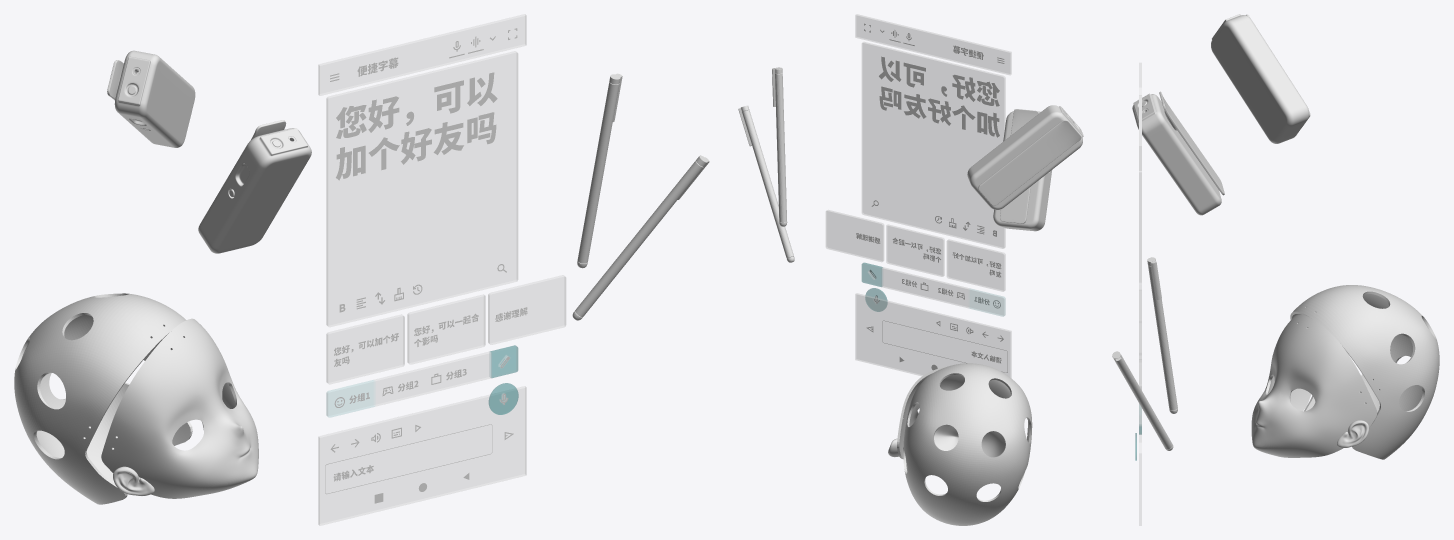
The model's file is bxzm-nE2oz__J.glb.
3 views of the same model, side by side, from view 1: azimuth 30°, elevation 25°; view 2: azimuth 150°, elevation 25°; view 3: azimuth 270°, elevation 25° (orthographic). The views are drawn at different scales.
Visible parts, largest first — view 1: Plane, 6e7dc343-f0f9-444a-b644-ced425d2c32c.36, 6e7dc343-f0f9-444a-b644-ced425d2c32c.001, Curve.004, Cube, Cube.001, Cylinder, Cylinder.001; view 2: Plane, 6e7dc343-f0f9-444a-b644-ced425d2c32c.36, Cube.001, Curve.004, 6e7dc343-f0f9-444a-b644-ced425d2c32c.001, Cube, Cylinder.001, Cylinder, Circle; view 3: 6e7dc343-f0f9-444a-b644-ced425d2c32c.36, 6e7dc343-f0f9-444a-b644-ced425d2c32c.001, Cube.001, Cube, Cylinder.001, Plane, Cylinder.
Part boxes in pixels (box(x1,y1,x2,y2)): Plane: box(318, 14, 565, 525); 6e7dc343-f0f9-444a-b644-ced425d2c32c.36: box(14, 293, 192, 504); 6e7dc343-f0f9-444a-b644-ced425d2c32c.001: box(101, 318, 258, 498); Curve.004: box(325, 28, 527, 503); Cube: box(198, 120, 311, 253); Cube.001: box(107, 50, 195, 147); Cylinder: box(572, 155, 709, 320); Cylinder.001: box(577, 73, 622, 268); Plane: box(826, 14, 1011, 377); 6e7dc343-f0f9-444a-b644-ced425d2c32c.36: box(903, 363, 1032, 525); Cube.001: box(967, 105, 1083, 209); Curve.004: box(856, 23, 1007, 372); 6e7dc343-f0f9-444a-b644-ced425d2c32c.001: box(888, 366, 1010, 459); Cube: box(993, 109, 1051, 231); Cylinder.001: box(772, 67, 787, 226); Cylinder: box(738, 105, 794, 262); Circle: box(865, 288, 887, 311); 6e7dc343-f0f9-444a-b644-ced425d2c32c.36: box(1290, 285, 1439, 459); 6e7dc343-f0f9-444a-b644-ced425d2c32c.001: box(1251, 314, 1376, 457); Cube.001: box(1211, 14, 1310, 143); Cube: box(1132, 91, 1224, 215); Cylinder.001: box(1147, 257, 1177, 413); Plane: box(1139, 63, 1141, 525); Cylinder: box(1112, 351, 1173, 450).
Bounding box in the file's own units: 5.78 × 5.3 × 3.73.
6 materials, 1 textured.
